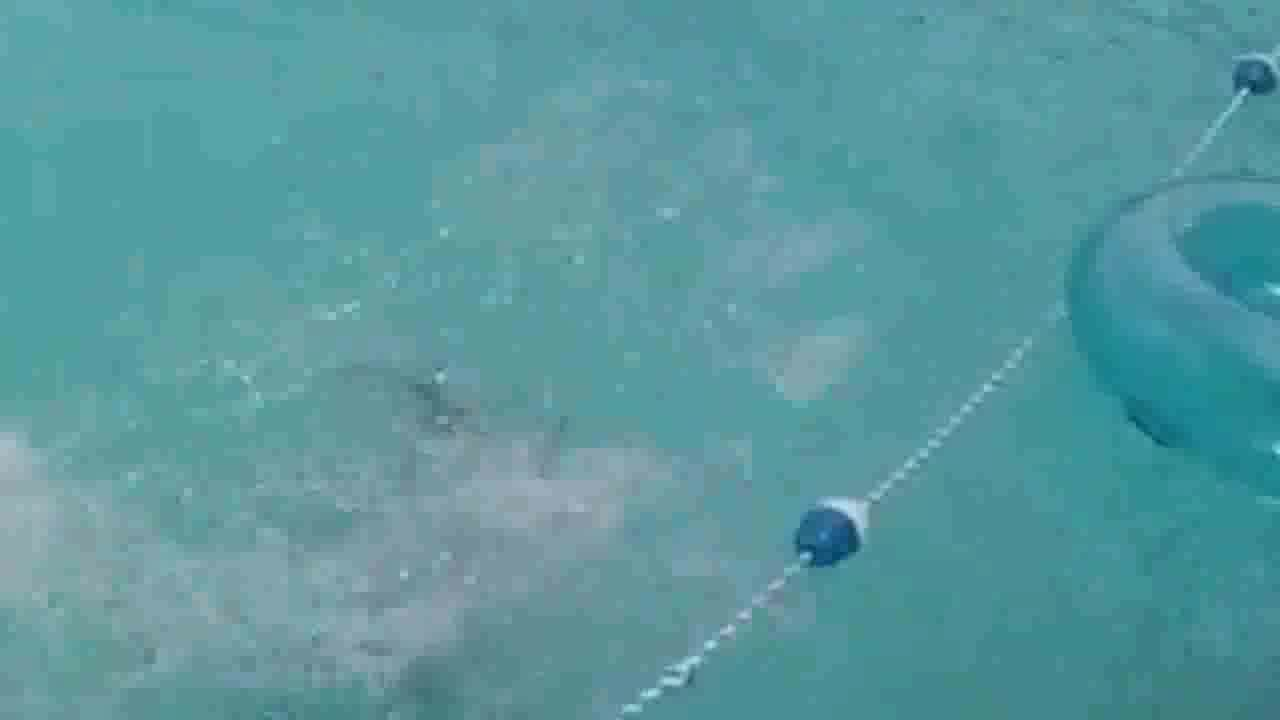Drowning: (358, 375, 626, 568)
